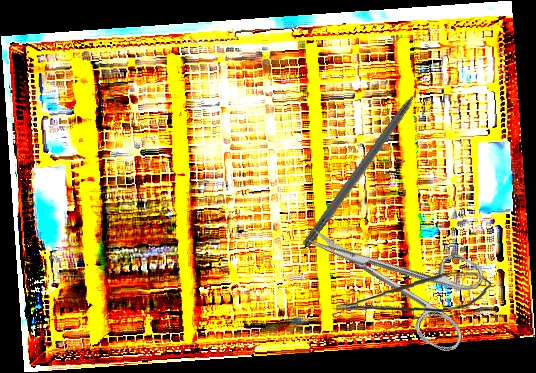Hook Surgical: (301, 72, 435, 250)
Iris Scissors: (289, 190, 497, 357)
Micro Scissor: (334, 268, 494, 317)
